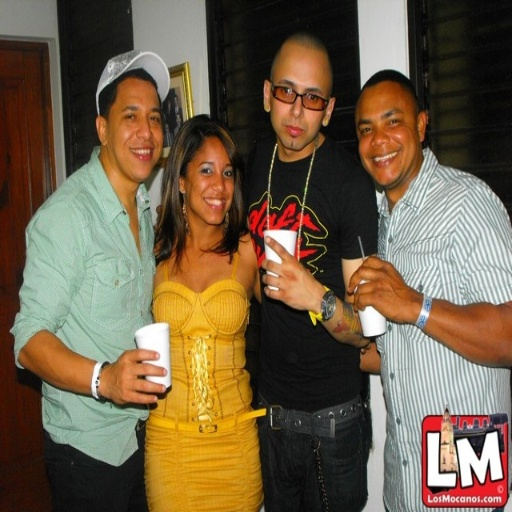hand: (259, 232, 316, 312), (347, 256, 416, 322), (104, 345, 168, 406)
